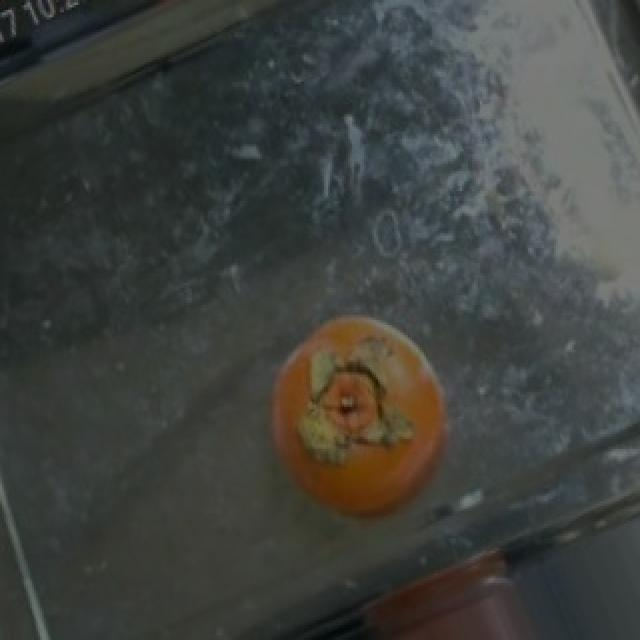Fruit: (240, 295, 474, 546), (354, 528, 556, 640)
